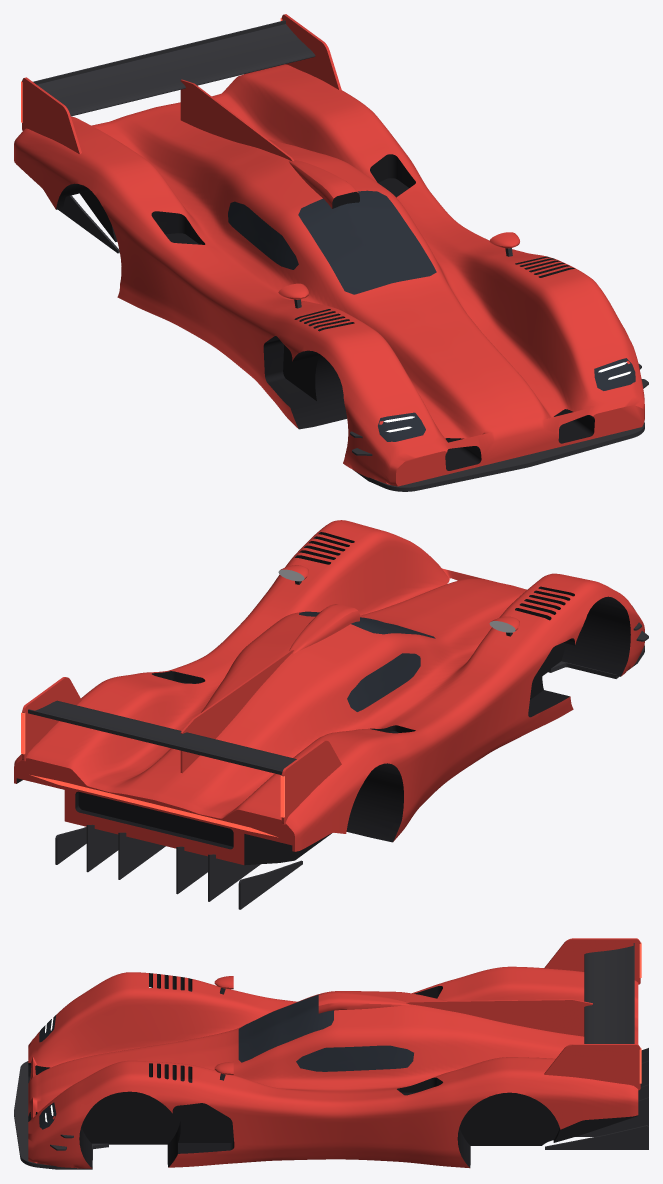
The model's file is hypercar.glb.
The picture shows the model from 3 angles, top to bottom: view 1: azimuth 30°, elevation 25°; view 2: azimuth 150°, elevation 25°; view 3: azimuth 270°, elevation 25°; orthographic projection. The views are drawn at different scales.
Parts seen in each view (by area): view 1: HyperBody, HyperSpoiler; view 2: HyperBody, HyperSpoiler; view 3: HyperBody, HyperSpoiler.
Boxes of the visible parts, <box> form: HyperBody: <box>14,64,648,491</box>; HyperSpoiler: <box>21,14,341,154</box>; HyperBody: <box>14,520,648,909</box>; HyperSpoiler: <box>21,677,341,824</box>; HyperBody: <box>14,966,648,1169</box>; HyperSpoiler: <box>544,938,641,1090</box>.
Bounding box in the file's own units: 2.22 × 1.07 × 5.
